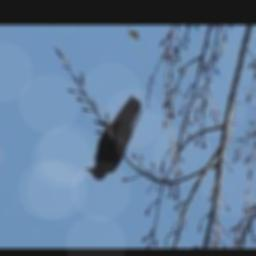Crow: (85, 93, 142, 181)
